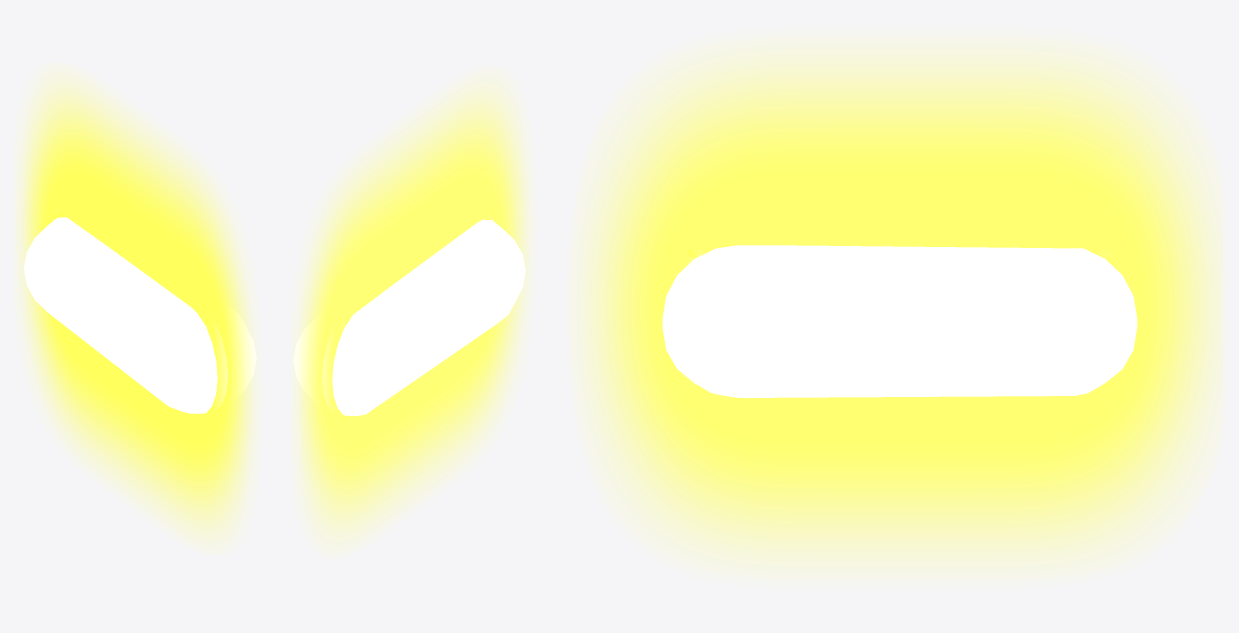
File: 04e3d600-7bc5-4eed-8b6b-e68e42452c63.glb
3 renders of one model, left to right at view 1: azimuth 30°, elevation 25°; view 2: azimuth 150°, elevation 25°; view 3: azimuth 270°, elevation 25°, orthographic. The views are drawn at different scales.
Parts seen in each view (by area): view 1: Plane.004; view 2: Plane.004; view 3: Plane.004.
Boxes of the visible parts, x1,y1,x2,y2 form: Plane.004: [19, 79, 256, 537]; Plane.004: [293, 83, 528, 540]; Plane.004: [581, 50, 1221, 565].
Size of the model in its own units: 0.0573 by 0.2326 by 0.2321.
Materials: 2 (1 with a texture image).
